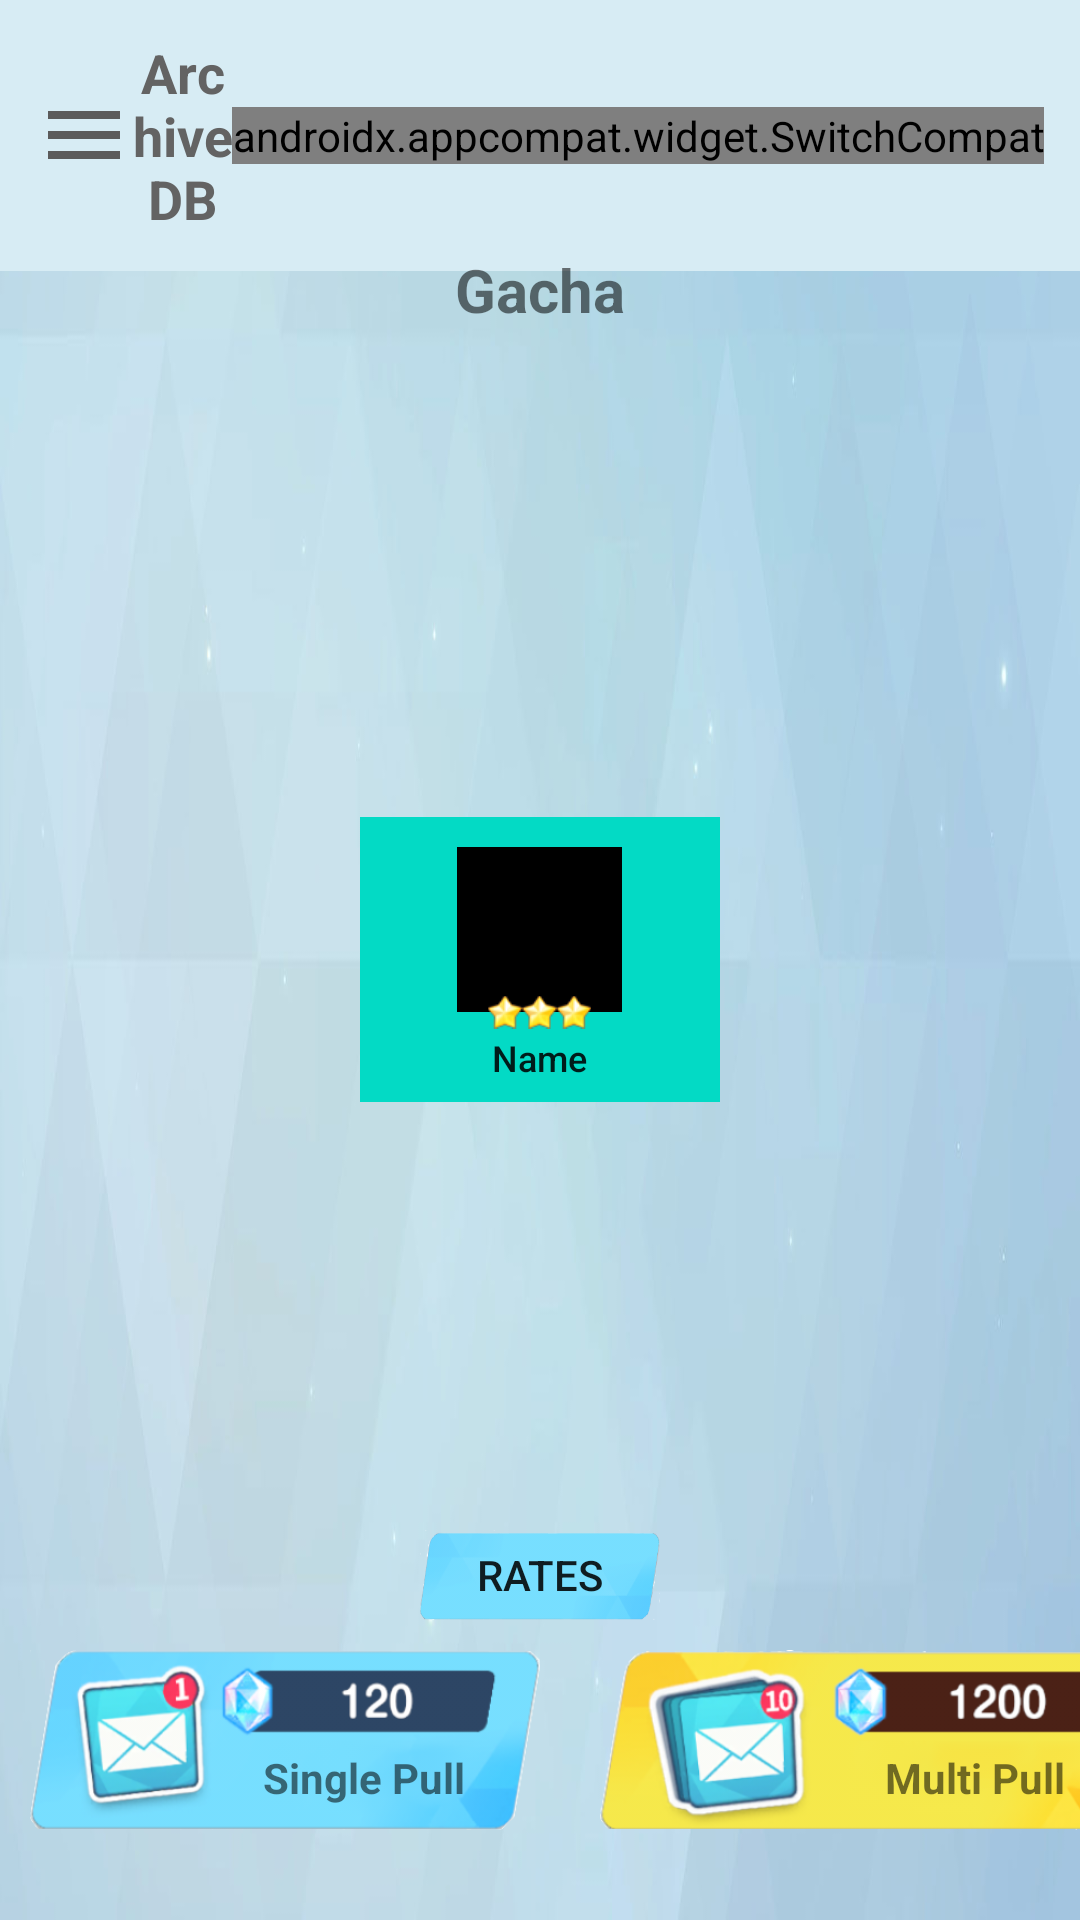

Icons on this 1080px x 1920px Android screen, each with the point to tap as (x,y):
menu: (84,135)
